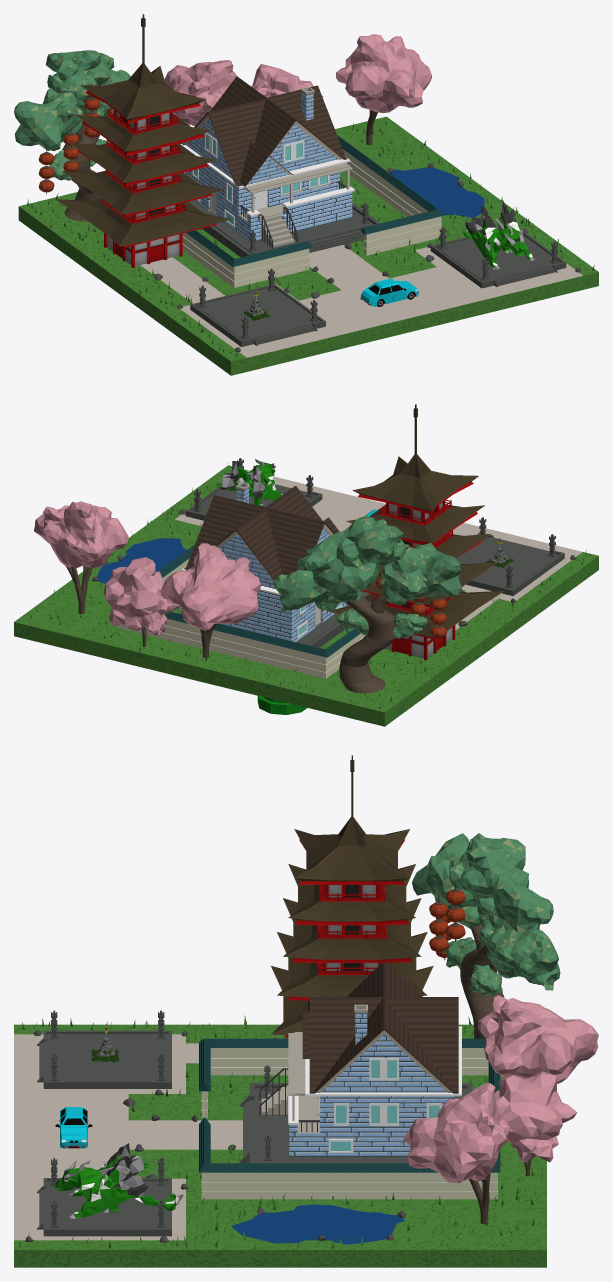
3 views of the same model, one above another, from view 1: azimuth 30°, elevation 25°; view 2: azimuth 150°, elevation 25°; view 3: azimuth 270°, elevation 25° (orthographic). The views are drawn at different scales.
Parts seen in each view (by area): view 1: Cube.005, Cube.547, ANIMAL_DRAGON, VEHICLES_CAR; view 2: Cube.005, Cube.547, ANIMAL_DRAGON, UNDERGROUND_PIPES; view 3: Cube.005, Cube.547, ANIMAL_DRAGON, VEHICLES_CAR.
Part boxes in pixels (x1,y1,x2,y2): Cube.005: [14, 14, 598, 375]; Cube.547: [179, 76, 354, 248]; ANIMAL_DRAGON: [464, 201, 536, 269]; VEHICLES_CAR: [360, 278, 418, 306]; Cube.005: [14, 404, 598, 726]; Cube.547: [181, 482, 347, 642]; ANIMAL_DRAGON: [216, 459, 282, 506]; UNDERGROUND_PIPES: [257, 696, 306, 714]; Cube.005: [14, 755, 598, 1267]; Cube.547: [259, 961, 461, 1156]; ANIMAL_DRAGON: [54, 1143, 183, 1218]; VEHICLES_CAR: [55, 1107, 92, 1148].
Bounding box in the file's own units: 4528 × 3273 × 4389.
Materials: 45 (6 with a texture image).
